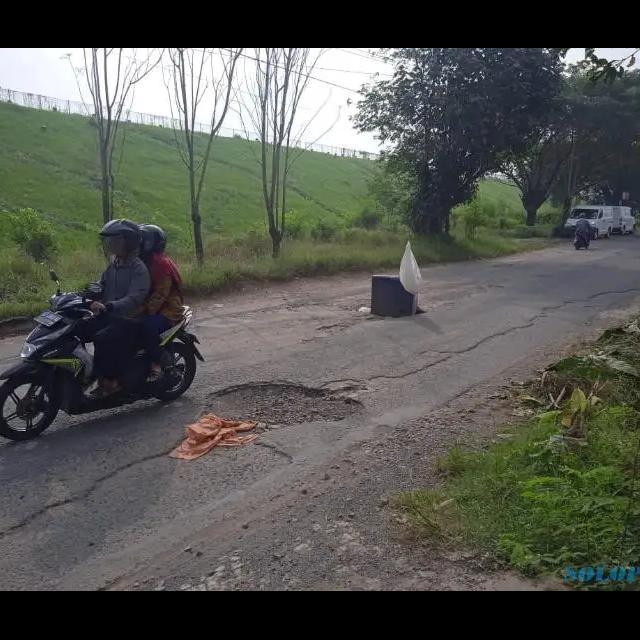lubang_kecil: (162, 358, 372, 457), (306, 314, 354, 344)
